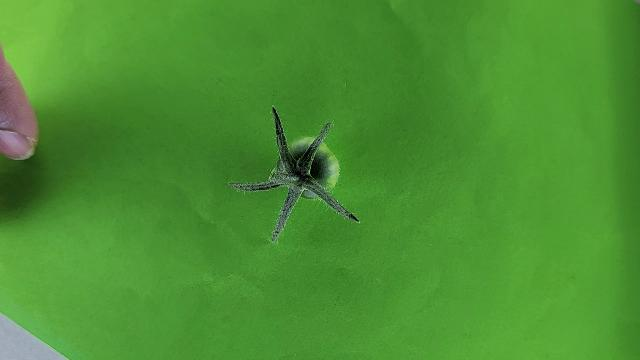Fruit Maturation: (279, 136, 342, 200)
